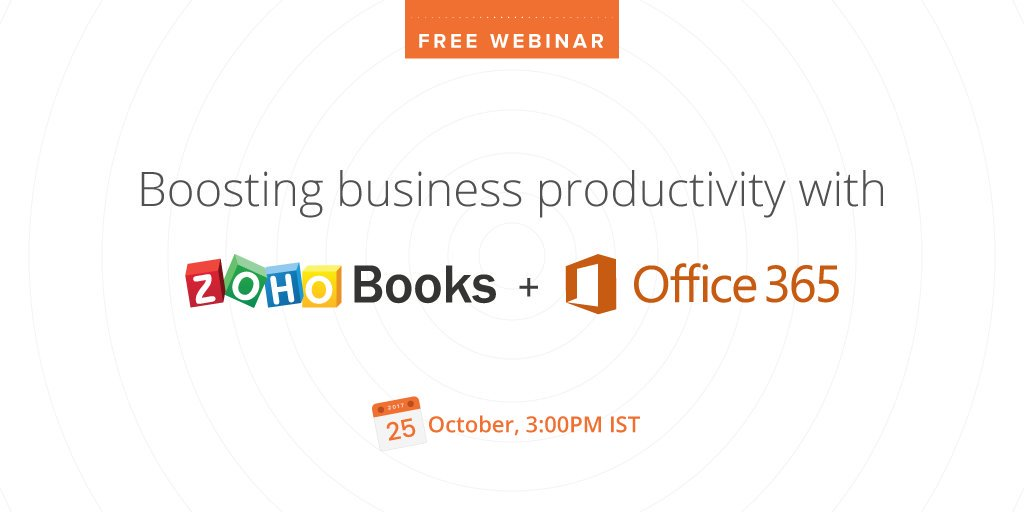zoho: (184, 253, 340, 308)
